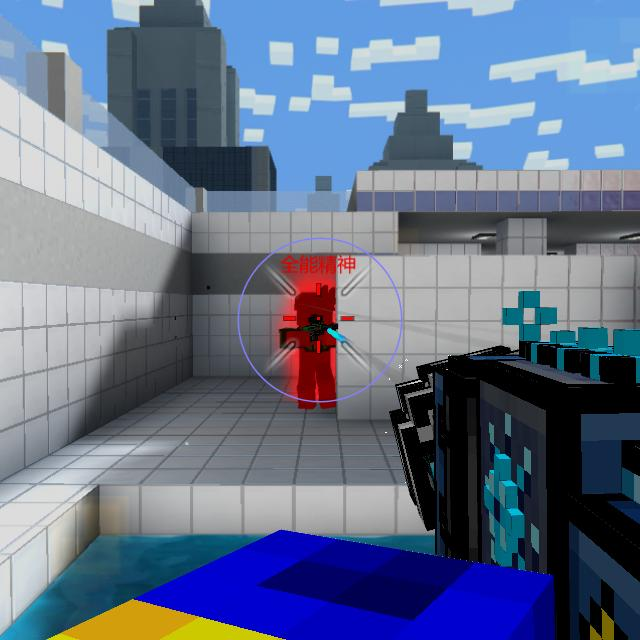Enemy: (281, 292, 340, 410)
